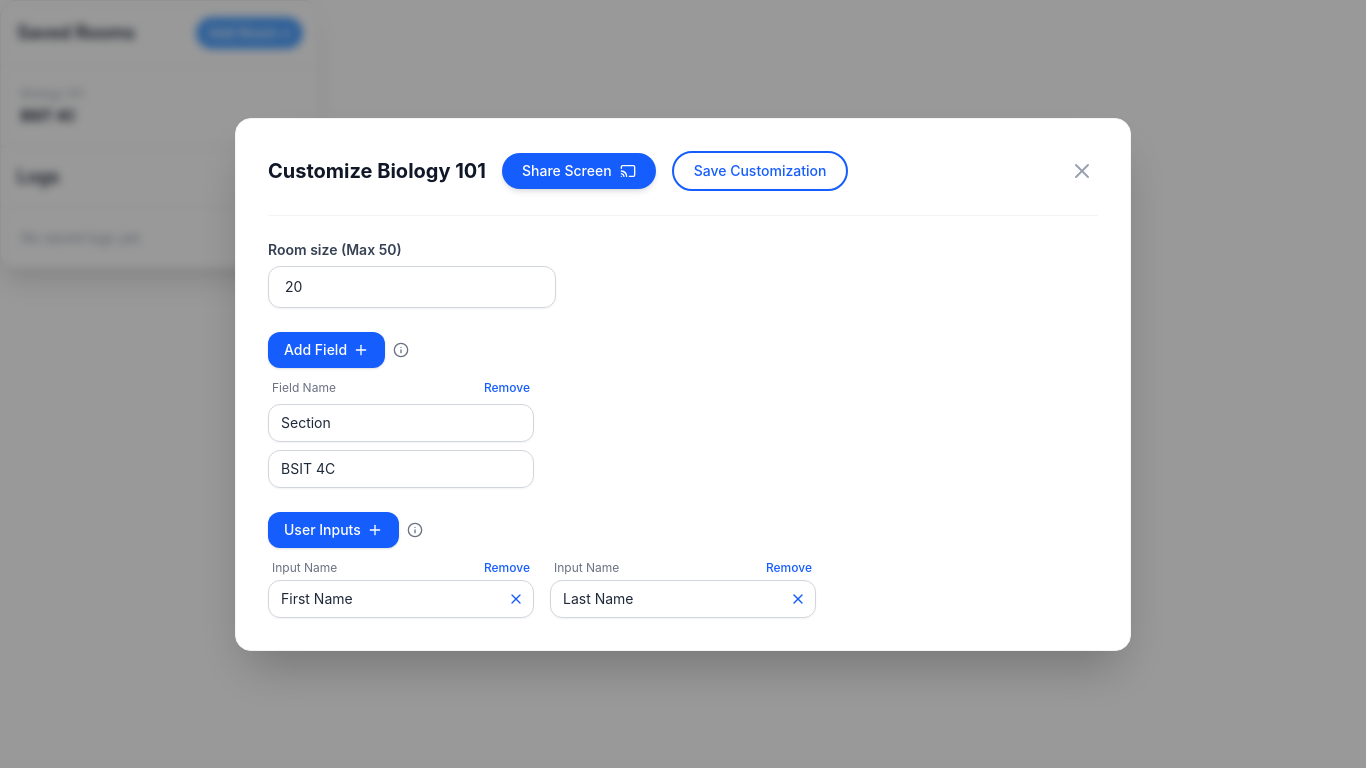
it: INT-001 — Room Management: customize → save → reopen › INT-001: updated Max Size and Fields persist and are shown on Details and pre-filled Customize
The width and height of the screenshot is (1366, 768).
Earlier steps of the test are not shown.
# Change Max Size 20 → 30.
Step 1. Replace the text in the field below "Room size (Max" with "30" → x=412, y=286, box [268,266,556,308]
# Add a field named "Student ID".
Step 2. Click the button "Add Field" → x=326, y=350, box [268,332,385,368]
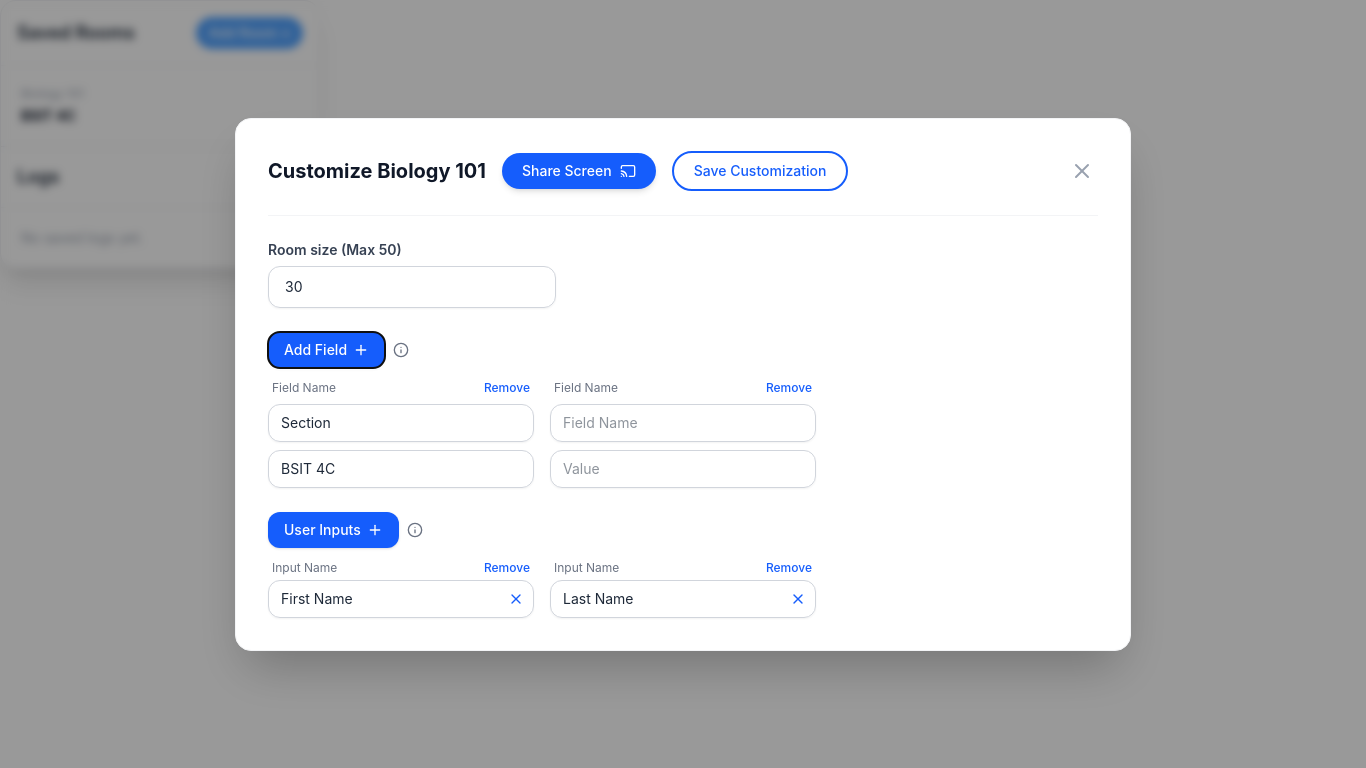
Step 3. Type "Student ID" into the field with placeholder "Field Name" → x=683, y=422, box [550,404,816,442]
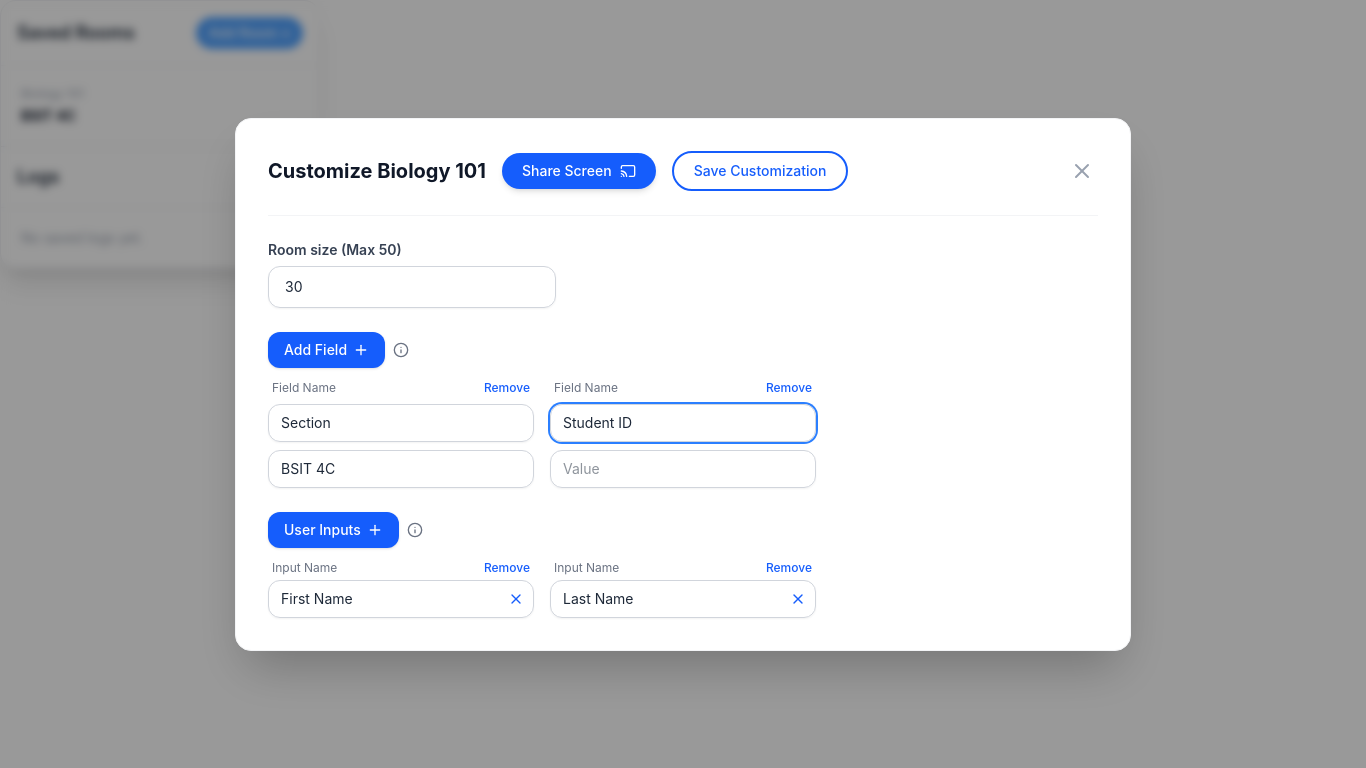
# 5. Save.
Step 4. Click the button "Save Customization" → x=760, y=170, box [672,150,848,190]
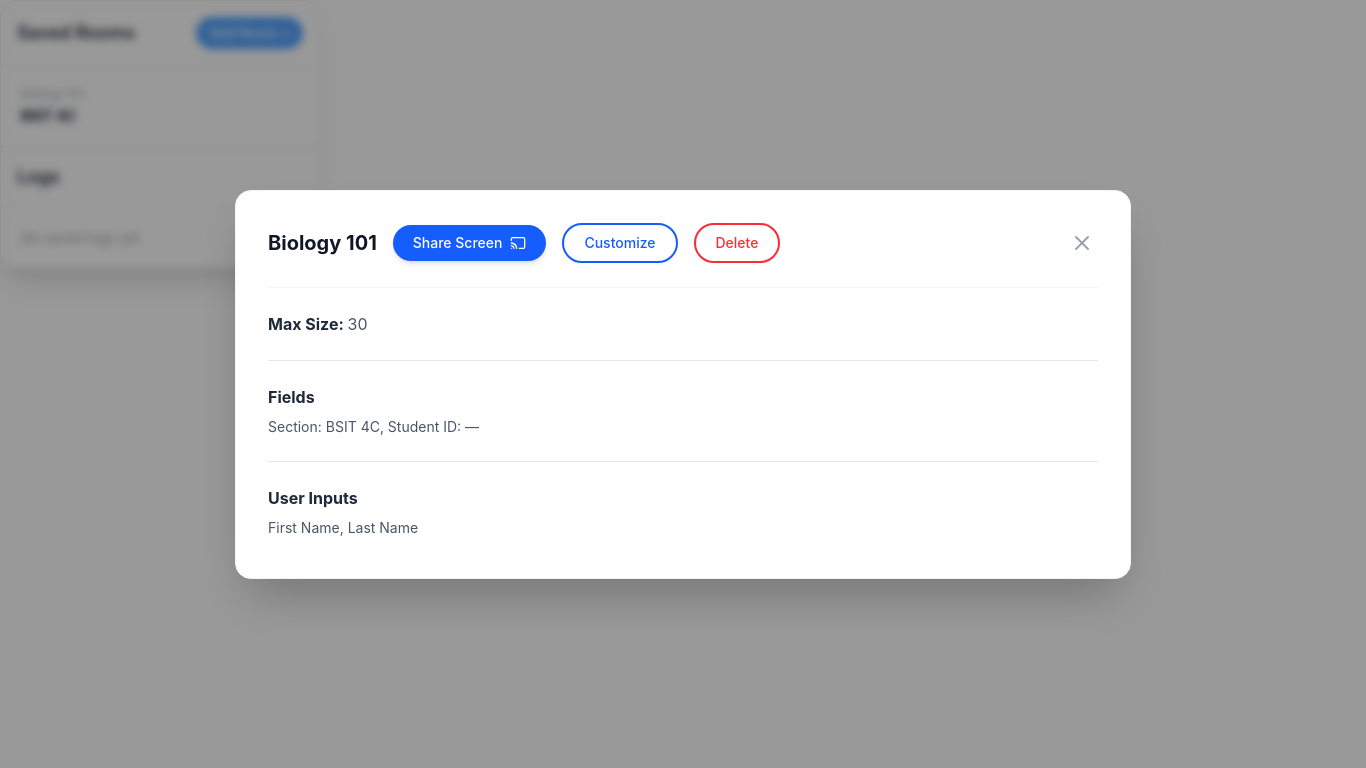
Expected: the text "Max Size:" is shown, [268,314,348,334]
Expected: the text "30" is shown, [348,314,368,334]
Expected: the text "Section: BSIT 4C, Student ID: —" is shown, [268,418,479,434]
Step 5. Click the button named "Close modal" → x=1082, y=242, box [1066,226,1098,258]
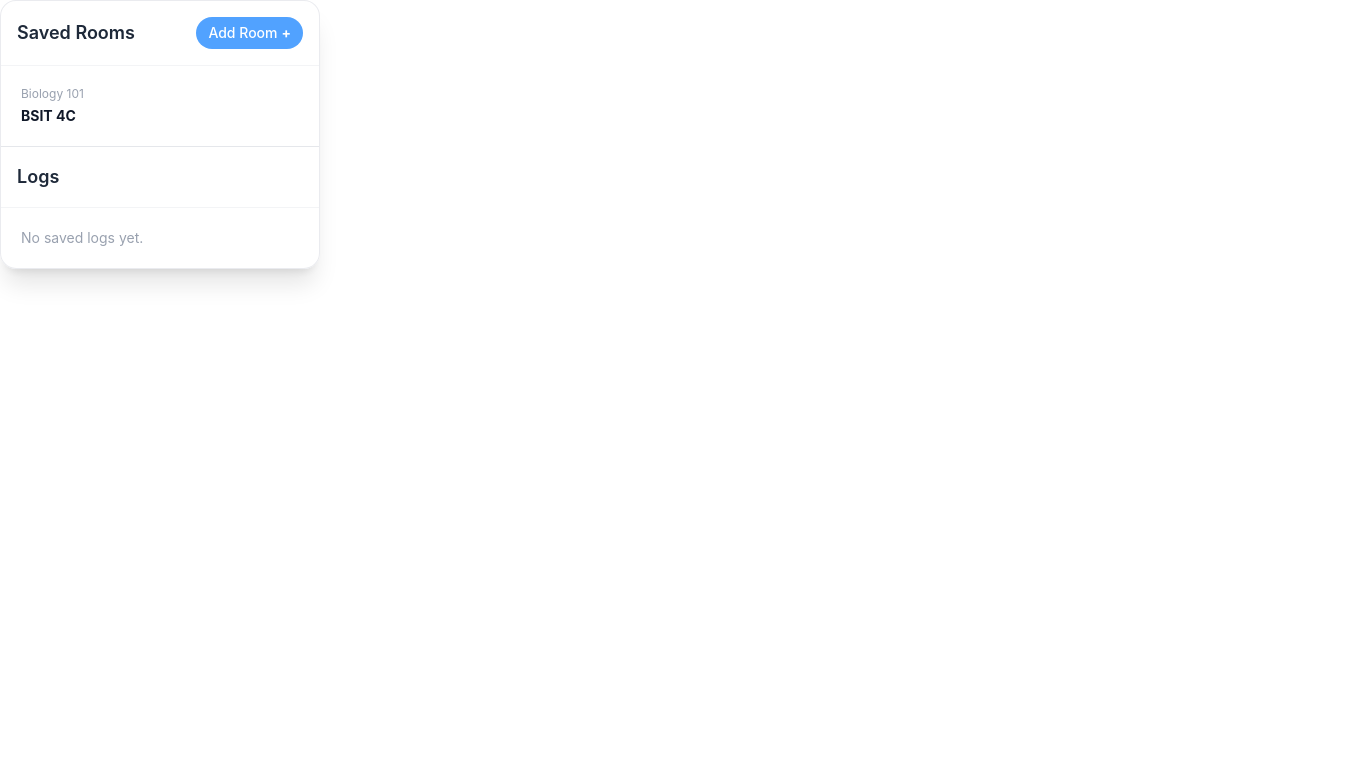
Step 6. Click the text "Biology 101" → x=52, y=94, box [21,86,84,101]
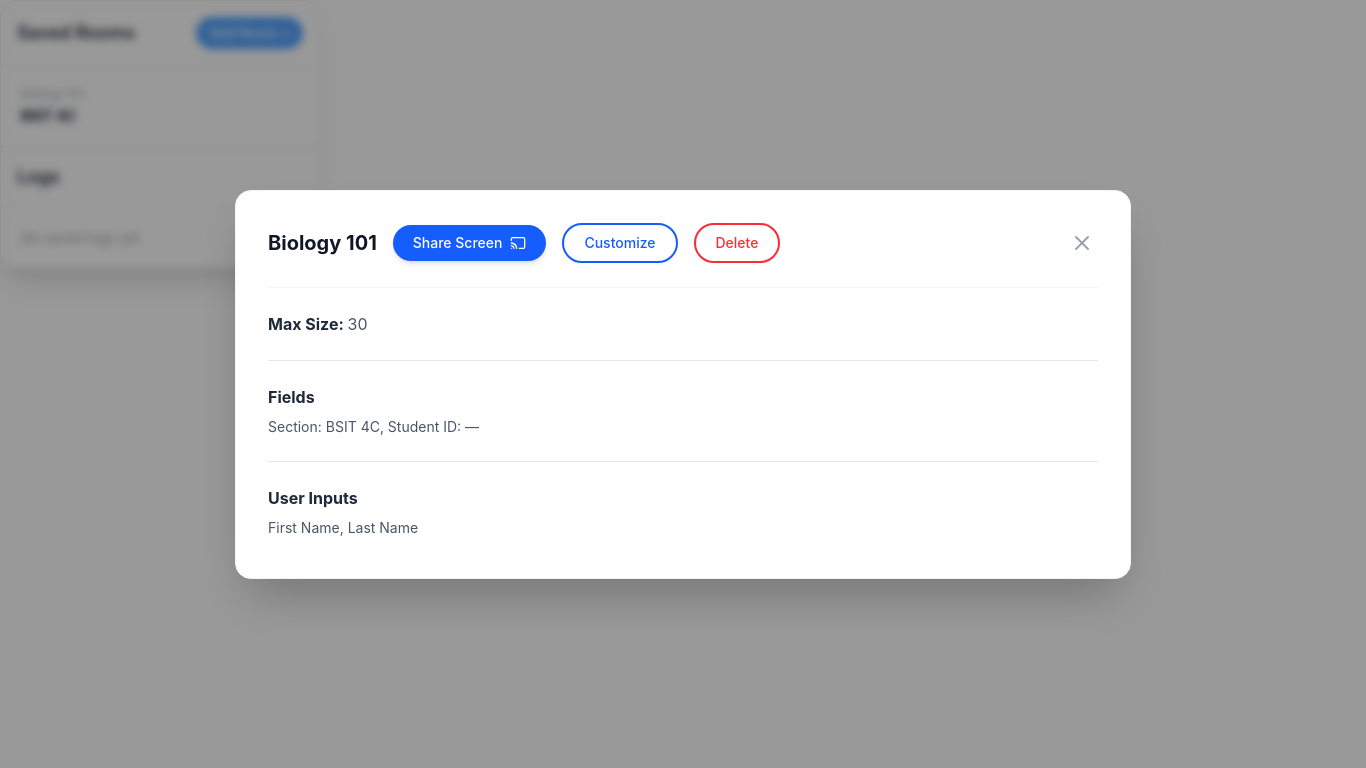
Expected: the text "Max Size:" is shown, [268,314,348,334]
Expected: the text "30" is shown, [348,314,368,334]
Expected: the text "Section: BSIT 4C, Student ID: —" is shown, [268,418,479,434]
# Customize opens pre-filled.
Step 7. Click the button "Customize" → x=620, y=242, box [562,222,678,262]
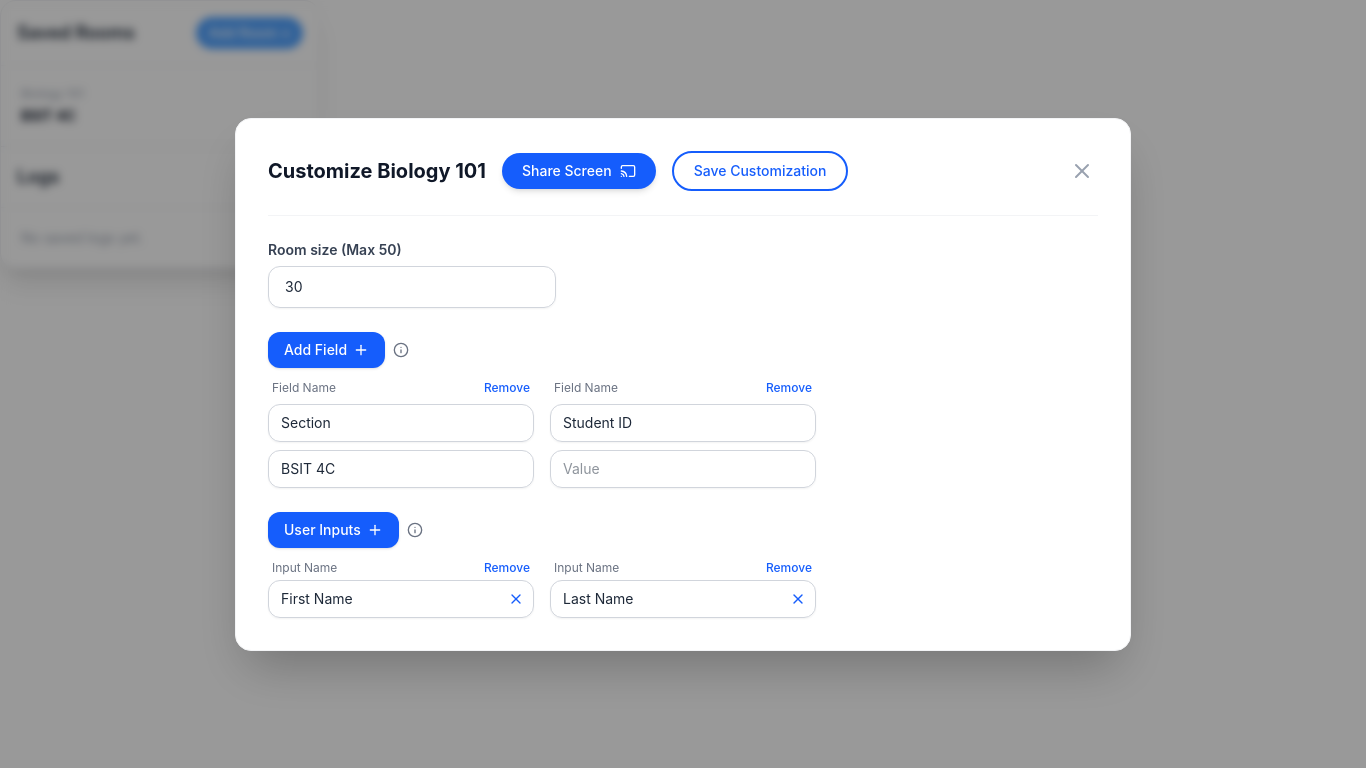
Expected: the field below "Room size (Max" holds "30", [268,266,556,308]
Expected: the 3rd field showing "Student ID" is shown, [550,404,816,442]
